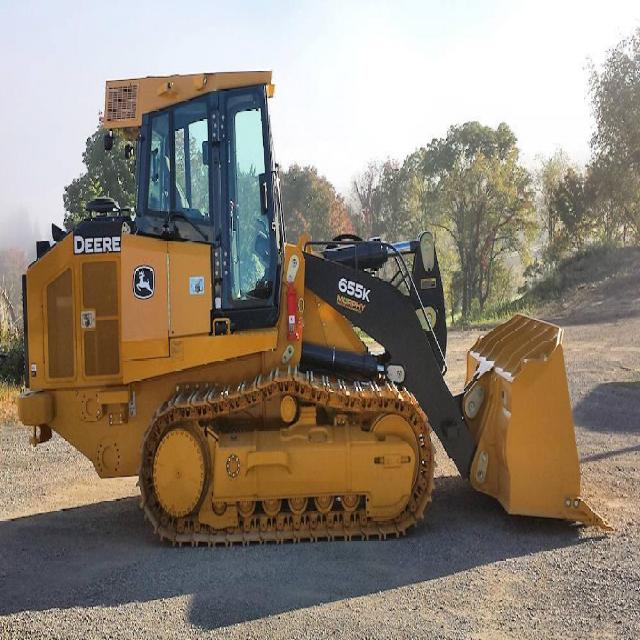Bulldozer: (15, 51, 626, 561)
